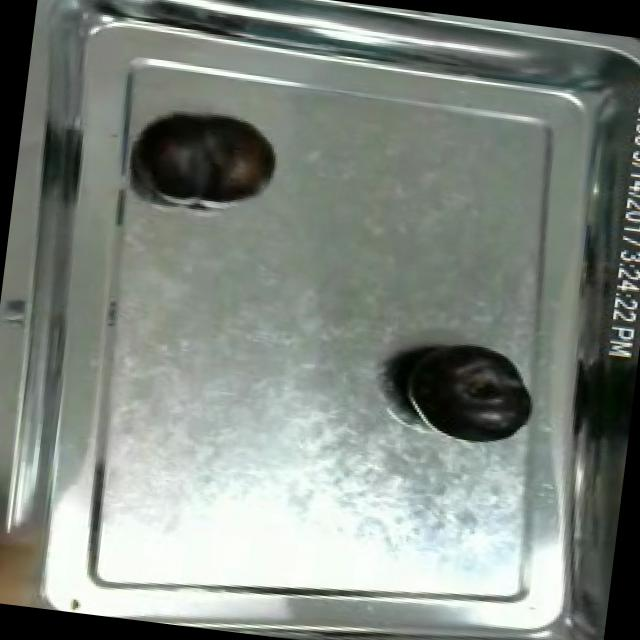Fruit: (388, 330, 544, 451), (146, 104, 284, 214)
